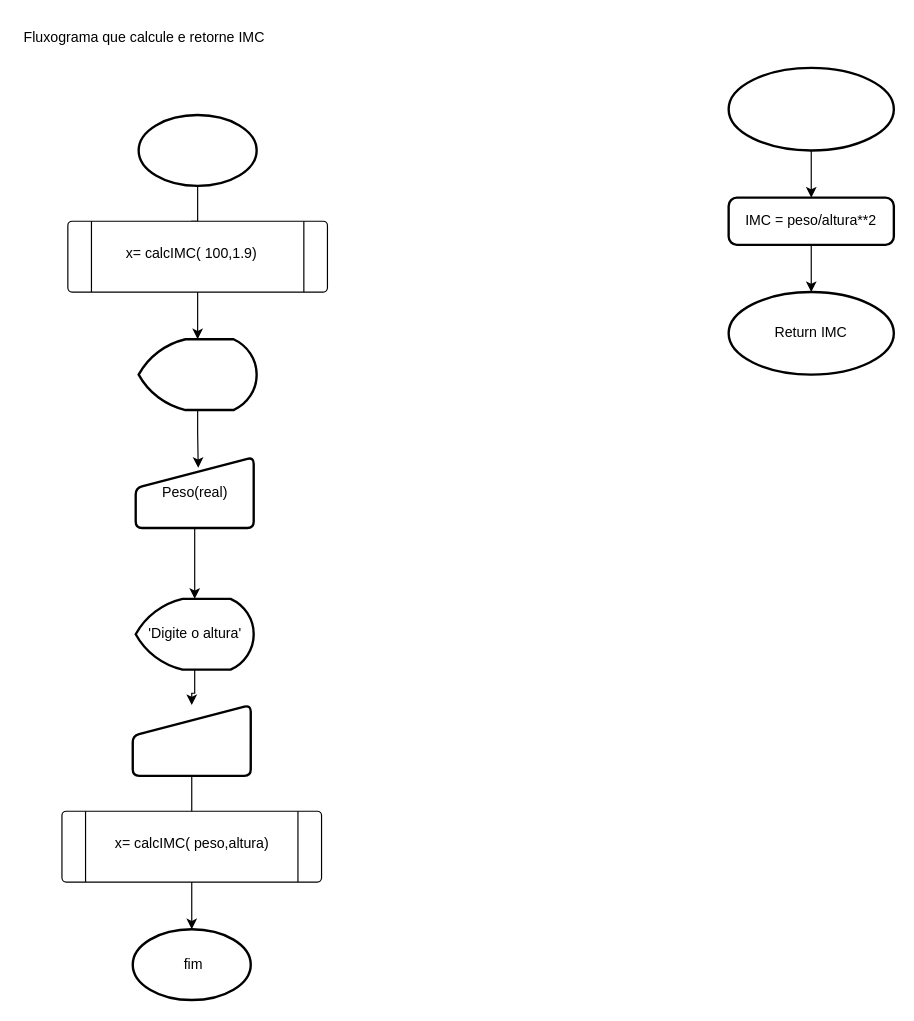
Some shapes in this 914 by 1021 pixel diagram are drawn without their labels. Here are the shapes that lost their labels. From the top down, the centre of each, then its label:
At (810,108): "Calc IMC (peso, altura)".
At (197,149): "Inicio".
At (197,374): "'Digite o peso'".
At (191,739): "altura(real)".
